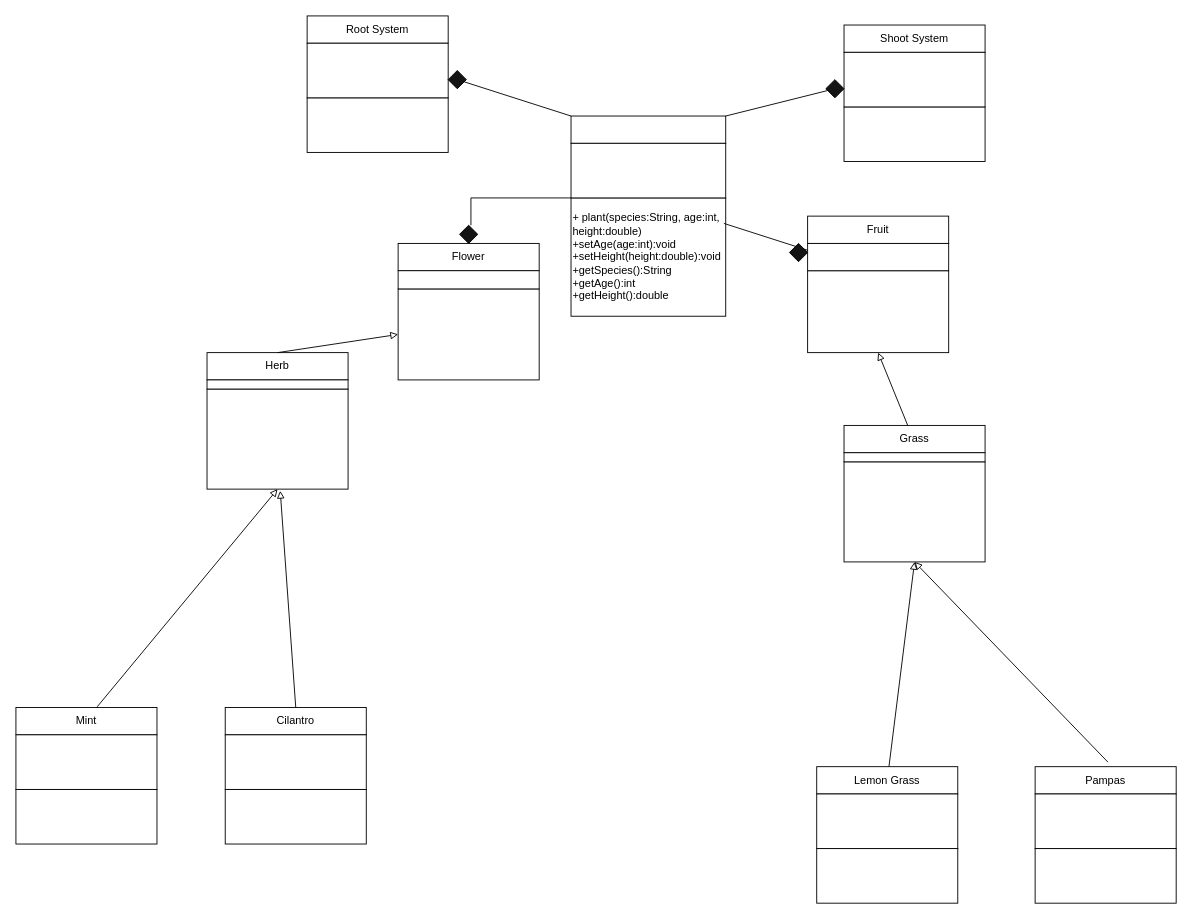
This 1192x919 diagram has some shape labels left out. The shapes that lost their labels are listed below. From the top down, each one's box as (x1, y1, x2, y2) in pixels, then its label:
(570, 115, 726, 143): Plant
(570, 142, 726, 198): - species: String - age: int - height:double
(206, 388, 348, 489): getFlavor():String getCookingUse():String
(843, 461, 985, 562): fertelize():void maintanence():String
